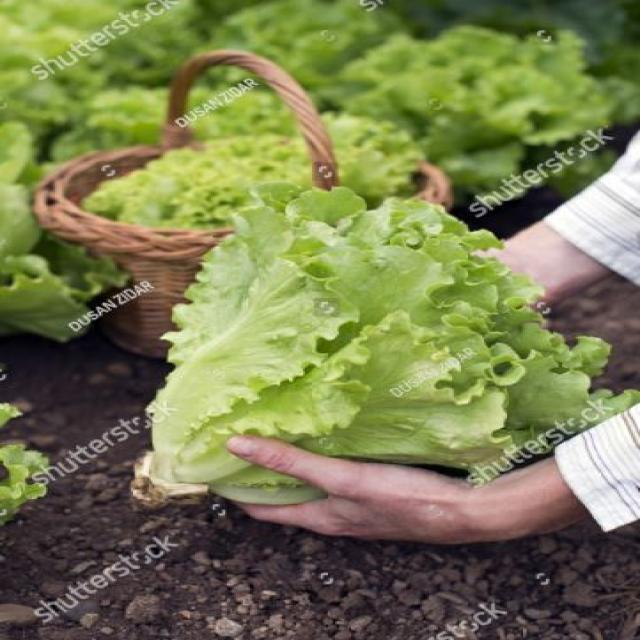Lettuce-Ready-to-Harvest: (138, 188, 589, 495)
